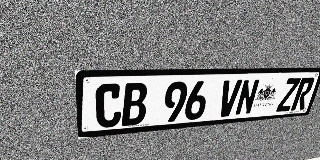6: (184, 81, 210, 120)
9: (162, 81, 189, 122)
B: (122, 83, 148, 126)
C: (95, 83, 122, 129)
N: (234, 79, 260, 116)
R: (290, 77, 316, 111)
V: (216, 80, 242, 117)
Z: (276, 78, 301, 112)
